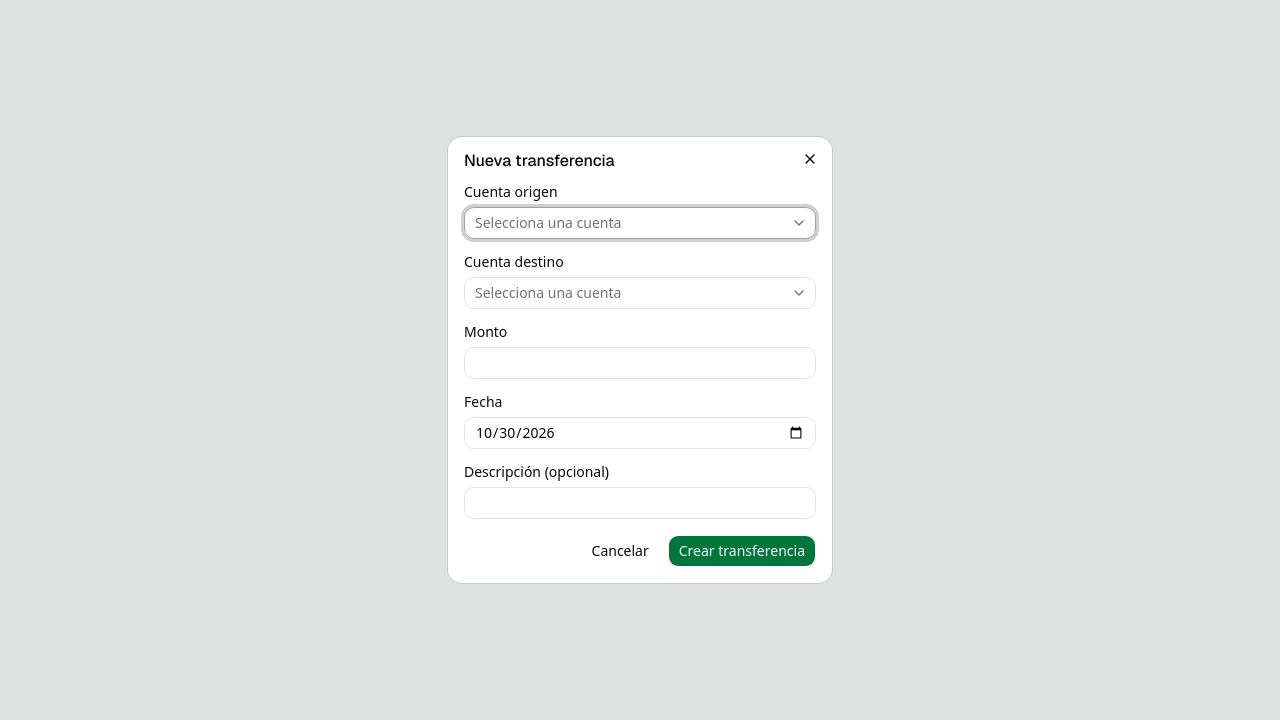
TransferModal › excluye la cuenta elegida en el otro selector
Press ArrowDown in the dropdown named "Cuenta origen", box top-left (464, 207), bottom-right (816, 239)
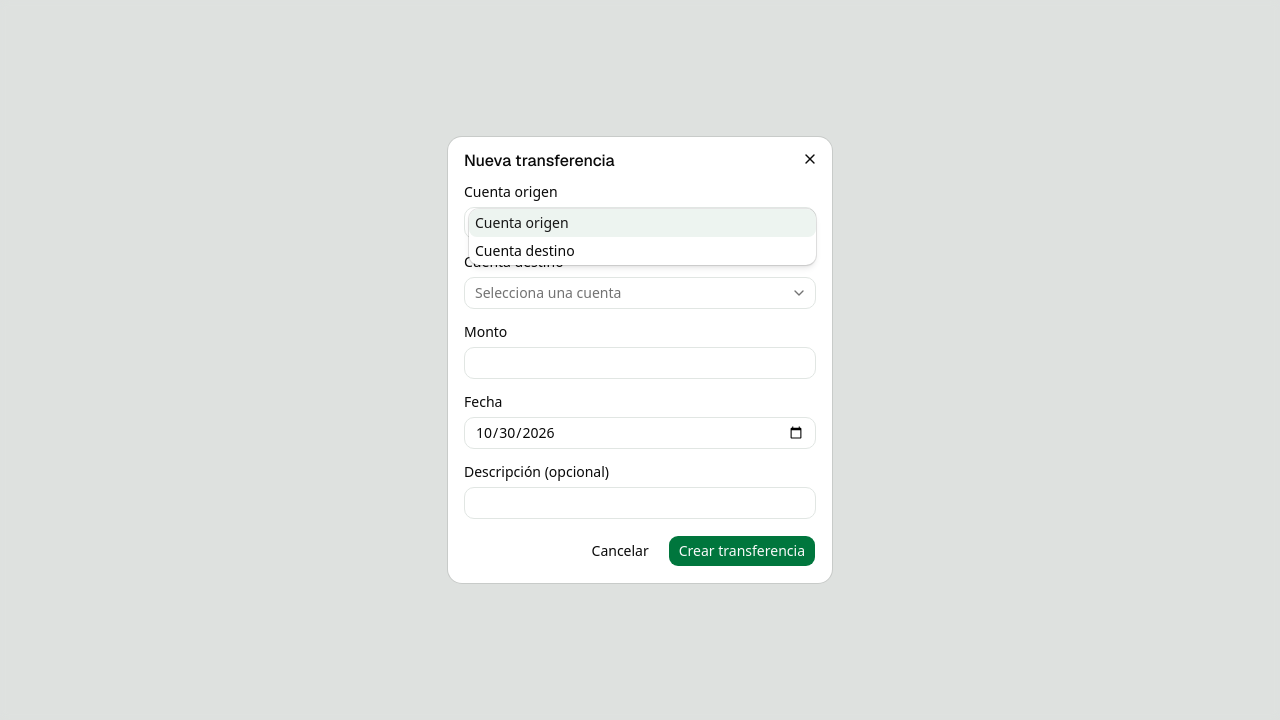
Click the option "Cuenta origen" at (522, 222), box top-left (469, 209), bottom-right (816, 237)
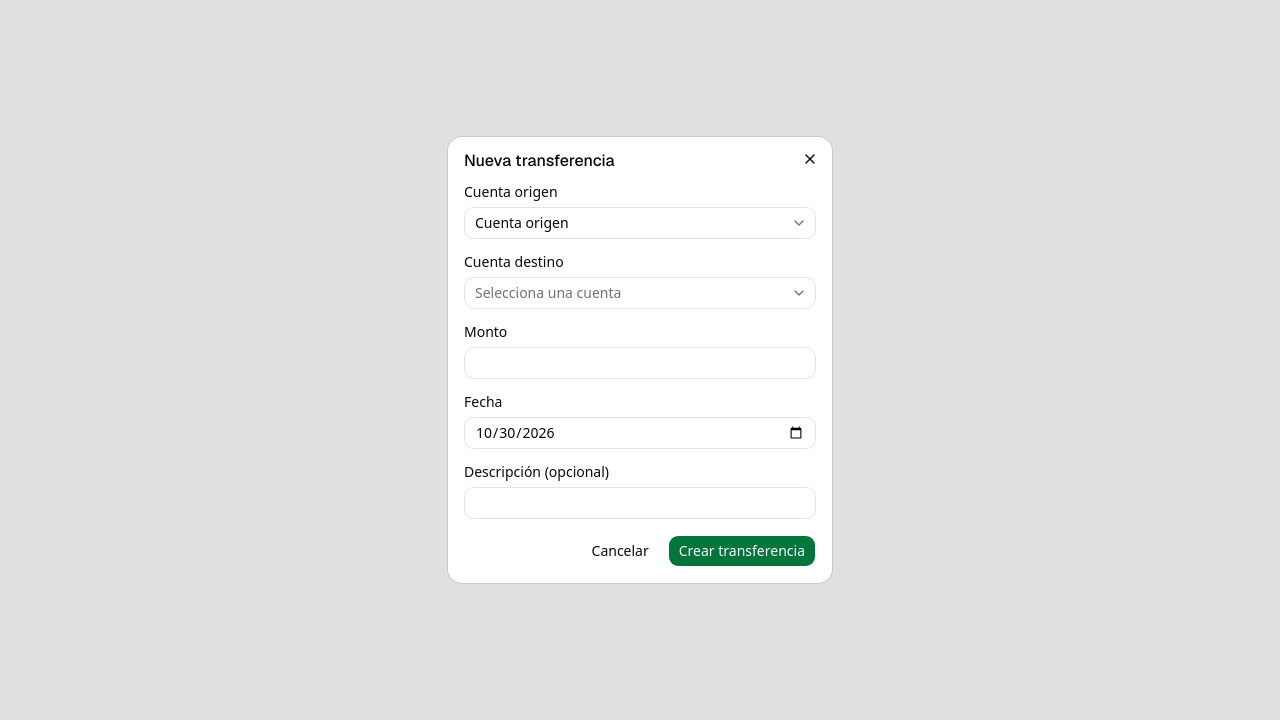
Press ArrowDown in the dropdown named "Cuenta destino", box top-left (464, 277), bottom-right (816, 309)
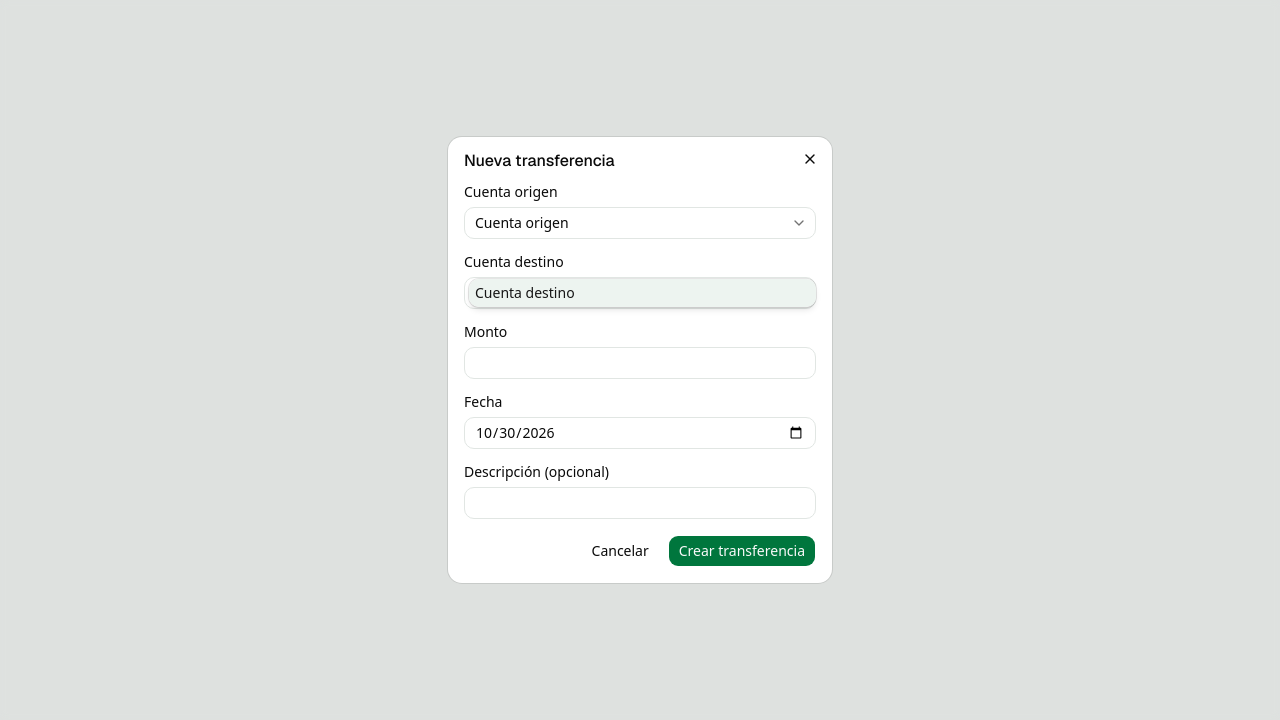
Click the option "Cuenta destino" at (525, 292), box top-left (469, 279), bottom-right (816, 307)
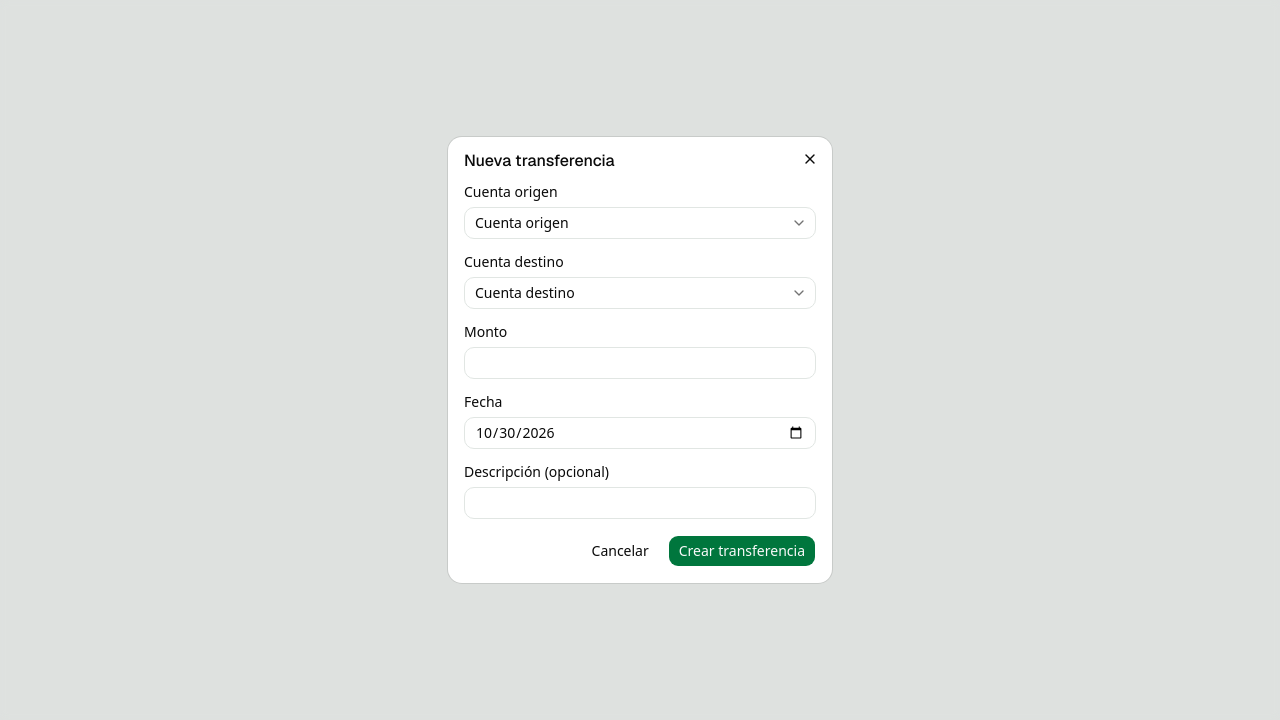
Press ArrowDown in the dropdown labelled "Cuenta origen", box top-left (464, 207), bottom-right (816, 239)
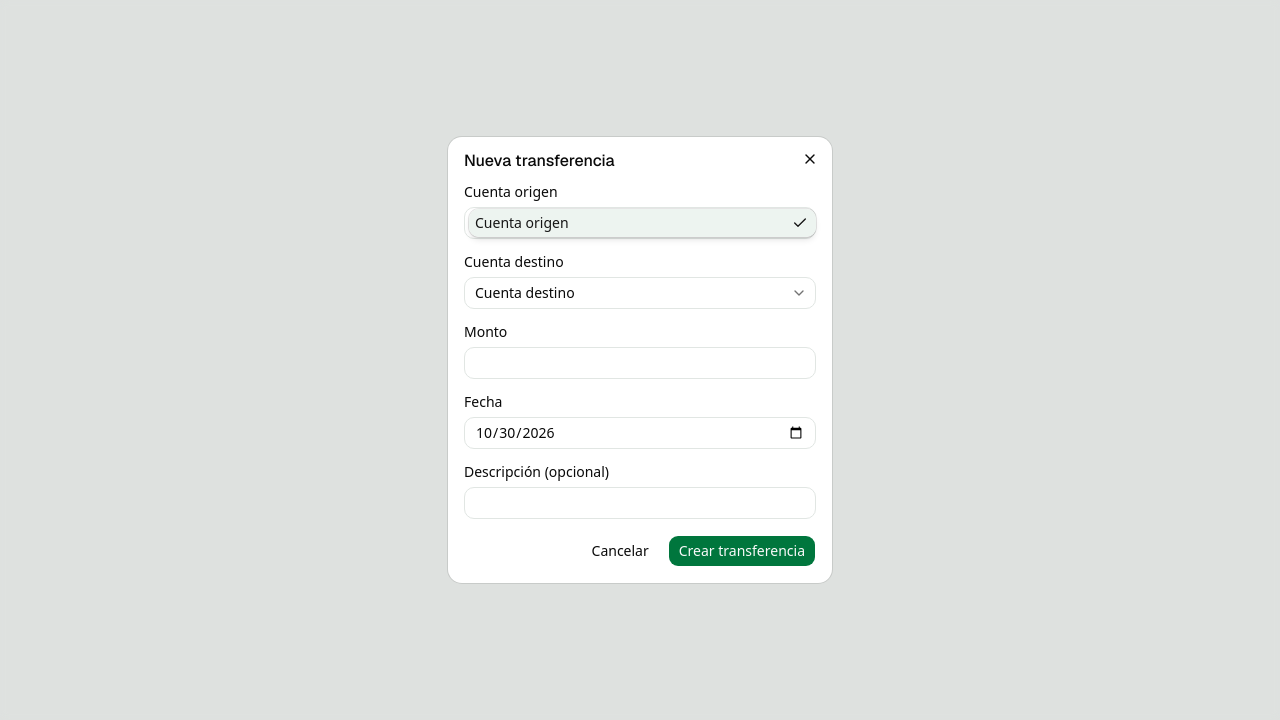
Expected: the option "Cuenta origen" is shown, top-left (469, 209), bottom-right (816, 237)
